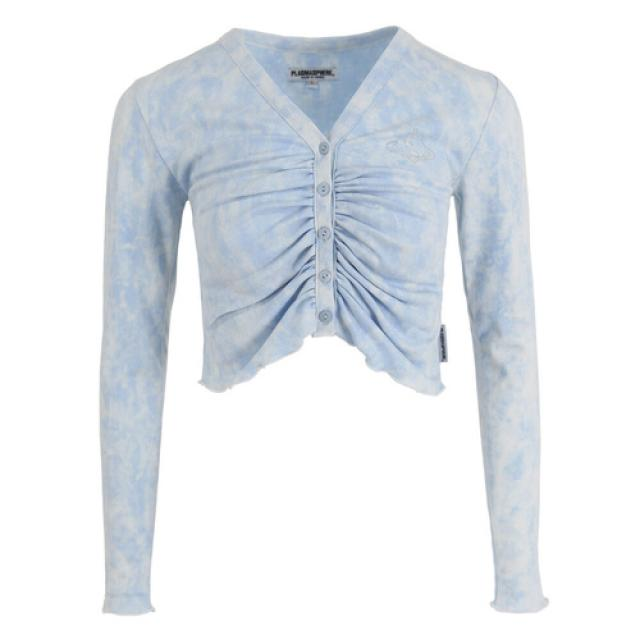dress: (103, 27, 546, 614)
